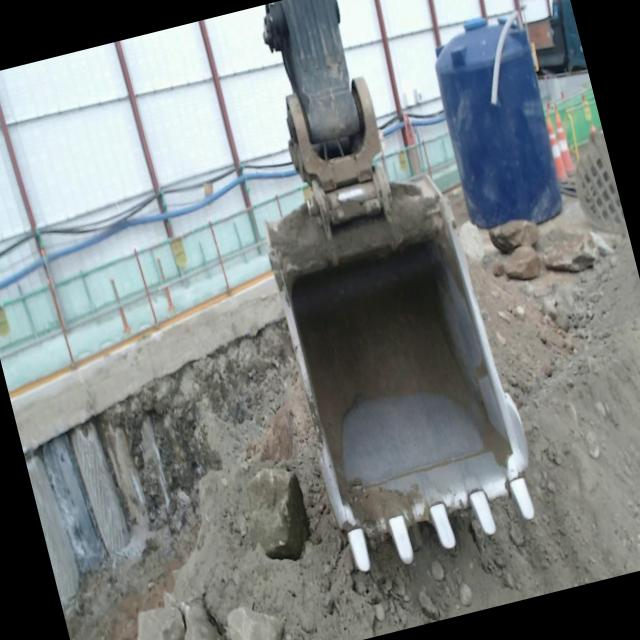stone: (238, 466, 309, 558), (541, 231, 599, 272), (227, 606, 283, 640), (181, 601, 227, 640), (493, 244, 544, 279), (487, 219, 538, 253), (137, 605, 184, 640)
white-sand: (63, 233, 640, 640)
